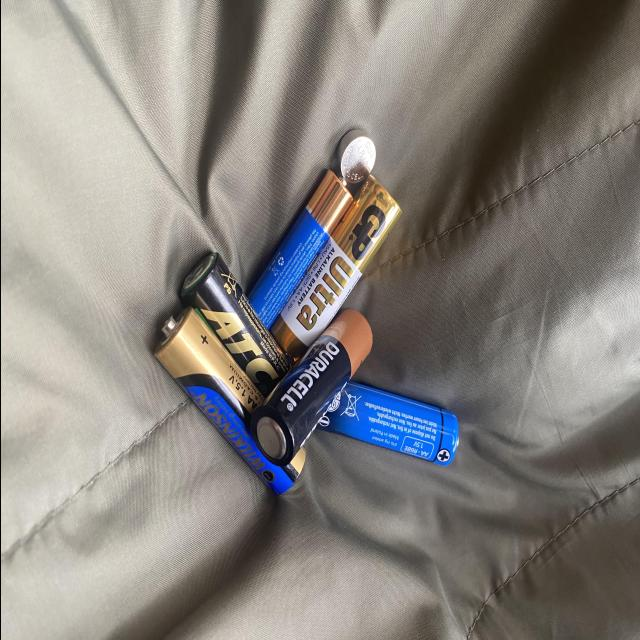AA: (150, 305, 308, 499), (267, 172, 403, 367), (249, 306, 373, 467), (177, 250, 292, 398), (313, 382, 460, 469)
AAA: (244, 167, 354, 334)
COIN: (335, 128, 376, 186)
